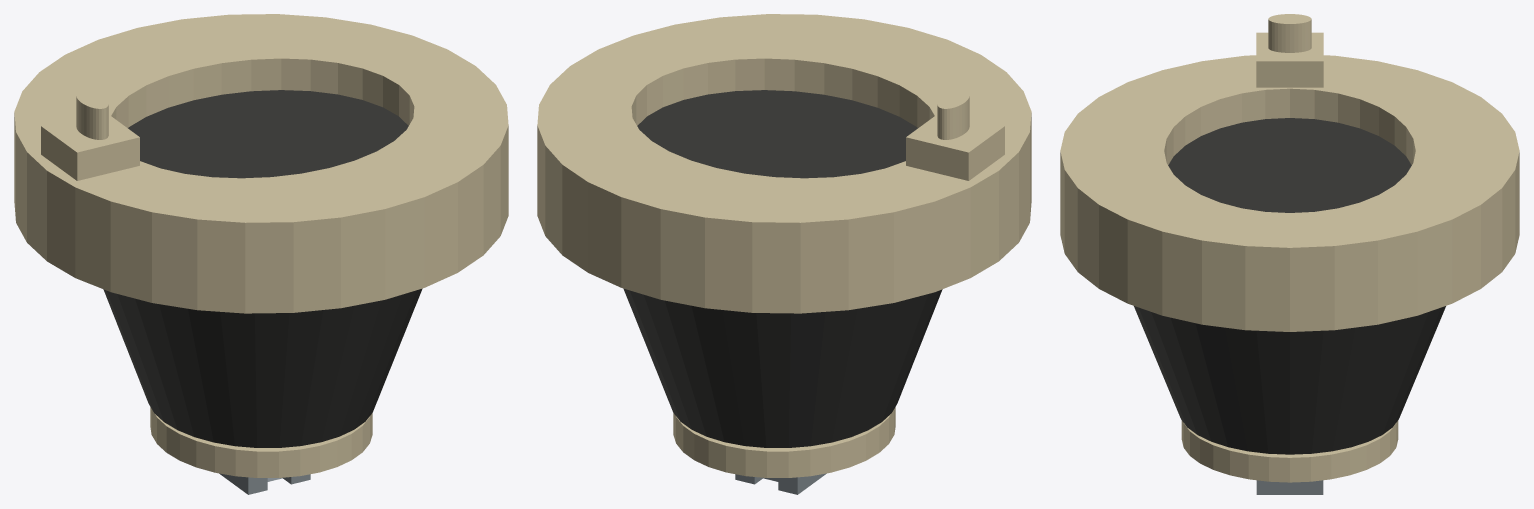
The picture shows the model from 3 angles, left to right: view 1: azimuth 30°, elevation 25°; view 2: azimuth 150°, elevation 25°; view 3: azimuth 270°, elevation 25°; orthographic projection. The views are drawn at different scales.
Visible parts, largest first — view 1: Cylinder, Cone.001, Cylinder.002, Cube.001, Cylinder.001, Cube; view 2: Cylinder, Cone.001, Cylinder.002, Cube.001, Cylinder.001, Cube; view 3: Cylinder, Cone.001, Cylinder.002, Cube.001, Cylinder.001, Cube.
Boxes of the visible parts, left/top/right/bottom form: Cylinder: left=14, top=14, right=508, bottom=313; Cone.001: left=103, top=90, right=422, bottom=447; Cylinder.002: left=150, top=407, right=372, bottom=477; Cube.001: left=41, top=114, right=139, bottom=180; Cylinder.001: left=76, top=91, right=108, bottom=139; Cube: left=219, top=473, right=310, bottom=494; Cylinder: left=537, top=14, right=1031, bottom=313; Cone.001: left=623, top=90, right=942, bottom=447; Cylinder.002: left=673, top=407, right=895, bottom=477; Cube.001: left=906, top=114, right=1004, bottom=180; Cylinder.001: left=937, top=91, right=969, bottom=139; Cube: left=735, top=473, right=826, bottom=494; Cylinder: left=1060, top=55, right=1519, bottom=331; Cone.001: left=1134, top=118, right=1445, bottom=454; Cylinder.002: left=1181, top=420, right=1398, bottom=482; Cube.001: left=1256, top=32, right=1323, bottom=87; Cylinder.001: left=1268, top=14, right=1311, bottom=52; Cube: left=1256, top=480, right=1323, bottom=494.
Size of the model in its own units: 4 by 3.7 by 4.
